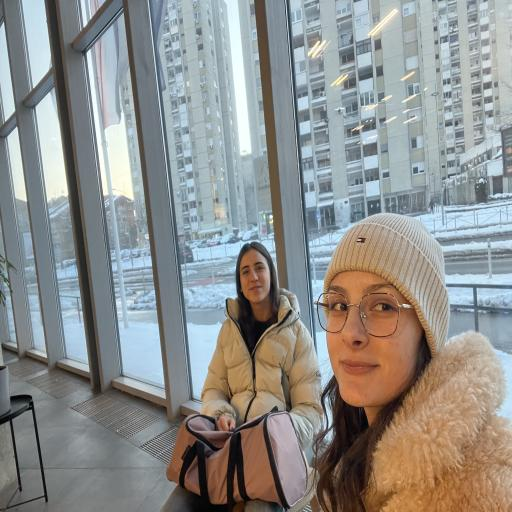marija: (324, 274, 424, 406)
masa: (238, 251, 272, 304)
